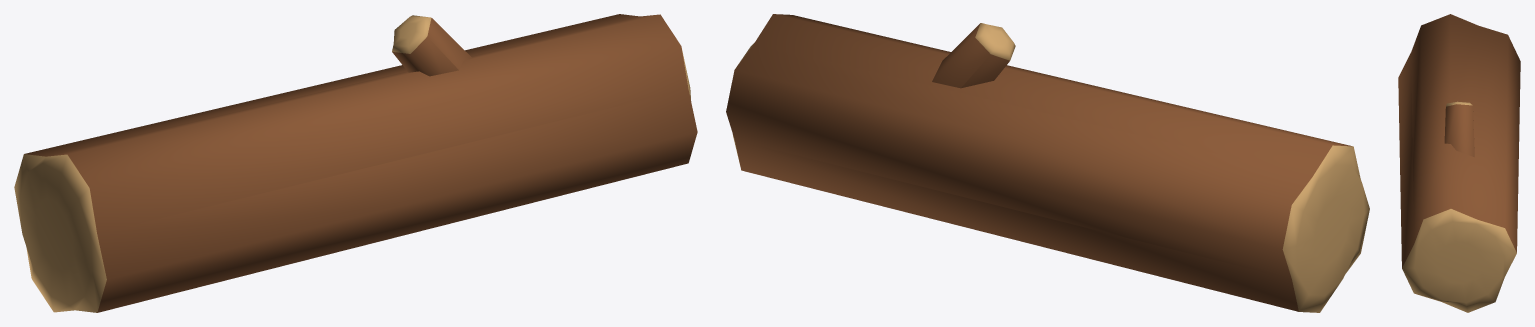
File: log_1.glb
3 renders of one model, left to right at view 1: azimuth 30°, elevation 25°; view 2: azimuth 150°, elevation 25°; view 3: azimuth 270°, elevation 25°, orthographic. The views are drawn at different scales.
Parts seen in each view (by area): view 1: Prop; view 2: Prop; view 3: Prop.
Boxes of the visible parts, x1,y1,x2,y2 form: Prop: [14, 14, 697, 312]; Prop: [726, 14, 1369, 312]; Prop: [1398, 14, 1520, 312].
Bounding box in the file's own units: 2.09 × 0.6993 × 0.5541.
